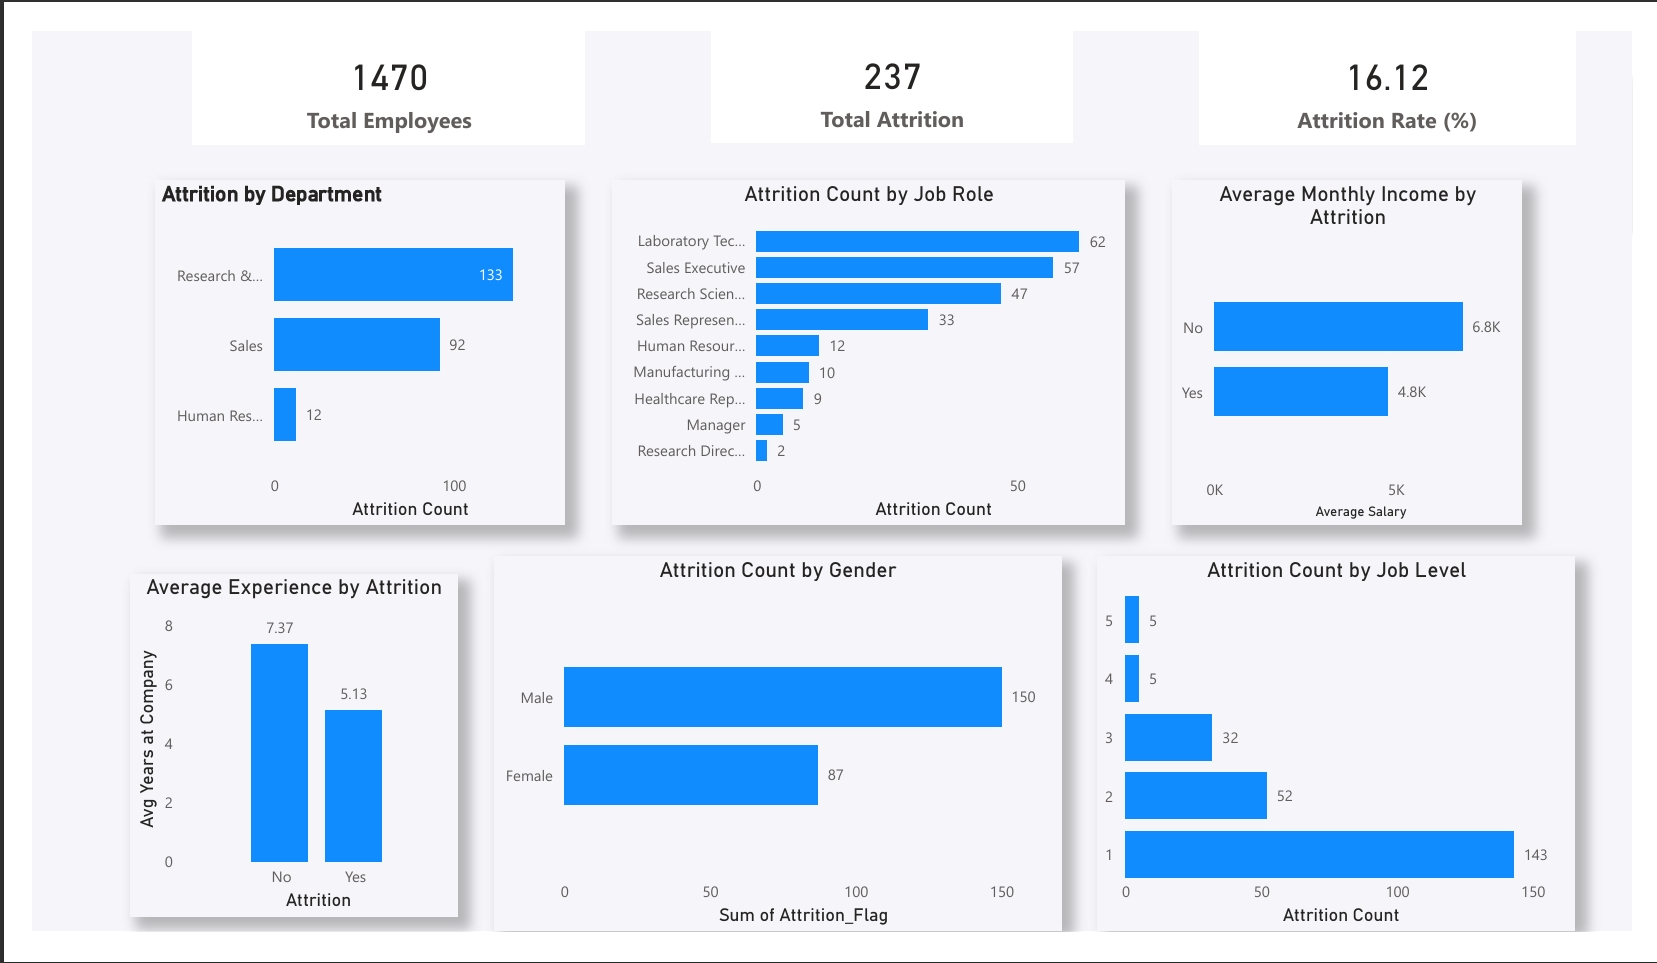

The dashboard page shown, as its layout file describes it:
{"tool":"powerbi","page":{"name":"Page 1","canvas":[1280,720],"ordinal":0},"visuals":[{"type":"card","fields":{"Values":["Sum(HR_Employee_Attrition.Attrition_Flag)"]},"box":[542.7,0,289.5,89.2],"z":0},{"type":"card","fields":{"Values":["HR_Employee_Attrition.Attrition Rate"]},"box":[933.1,0,300.5,90.6],"z":1000},{"type":"card","fields":{"Values":["CountNonNull(HR_Employee_Attrition.Age)"]},"box":[127.6,0,314.2,90.6],"z":2000},{"type":"clusteredBarChart","title":"Attrition by Department","fields":{"Category":["HR_Employee_Attrition.Department"],"Y":["Sum(HR_Employee_Attrition.Attrition_Flag)"]},"box":[98.3,119.4,328,275.8],"z":3000},{"type":"clusteredBarChart","title":"Attrition Count by Job Role","fields":{"Category":["HR_Employee_Attrition.JobRole"],"Y":["Sum(HR_Employee_Attrition.Attrition_Flag)"]},"box":[463.9,119.4,410.3,275.8],"z":4000},{"type":"clusteredBarChart","title":"Average Monthly Income by Attrition","fields":{"Category":["HR_Employee_Attrition.Attrition"],"Y":["Avg(HR_Employee_Attrition.MonthlyIncome)"]},"box":[912,119.4,279.9,275.8],"z":5000},{"type":"clusteredColumnChart","title":"Average Experience by Attrition","fields":{"Category":["HR_Employee_Attrition.Attrition"],"Y":["Avg(HR_Employee_Attrition.YearsAtCompany)"]},"box":[78.2,433.6,262.1,274.4],"z":6000},{"type":"clusteredBarChart","title":"Attrition Count by Gender","fields":{"Category":["HR_Employee_Attrition.Gender"],"Y":["Sum(HR_Employee_Attrition.Attrition_Flag)"]},"box":[369.1,419.9,454.2,300.5],"z":7000},{"type":"clusteredBarChart","title":"Attrition Count by Job Level","fields":{"Y":["Sum(HR_Employee_Attrition.Attrition_Flag)"],"Category":["HR_Employee_Attrition.JobLevel"]},"box":[852.1,419.9,381.5,300.5],"z":8000}]}

Visuals, with their boxes on the page's 1280x720 design canvas (x1, y1, x2, y2). These are canvas units, not pixel positions in the 1657x963 screenshot, which may show the page scaled, cropped or inside an application window:
card - Sum(HR_Employee_Attrition.Attrition_Flag): pyautogui.locateOnScreen(543, 0, 832, 89)
card - HR_Employee_Attrition.Attrition Rate: pyautogui.locateOnScreen(933, 0, 1234, 91)
card - CountNonNull(HR_Employee_Attrition.Age): pyautogui.locateOnScreen(128, 0, 442, 91)
"Attrition by Department" clusteredBarChart: pyautogui.locateOnScreen(98, 119, 426, 395)
"Attrition Count by Job Role" clusteredBarChart: pyautogui.locateOnScreen(464, 119, 874, 395)
"Average Monthly Income by Attrition" clusteredBarChart: pyautogui.locateOnScreen(912, 119, 1192, 395)
"Average Experience by Attrition" clusteredColumnChart: pyautogui.locateOnScreen(78, 434, 340, 708)
"Attrition Count by Gender" clusteredBarChart: pyautogui.locateOnScreen(369, 420, 823, 720)
"Attrition Count by Job Level" clusteredBarChart: pyautogui.locateOnScreen(852, 420, 1234, 720)
